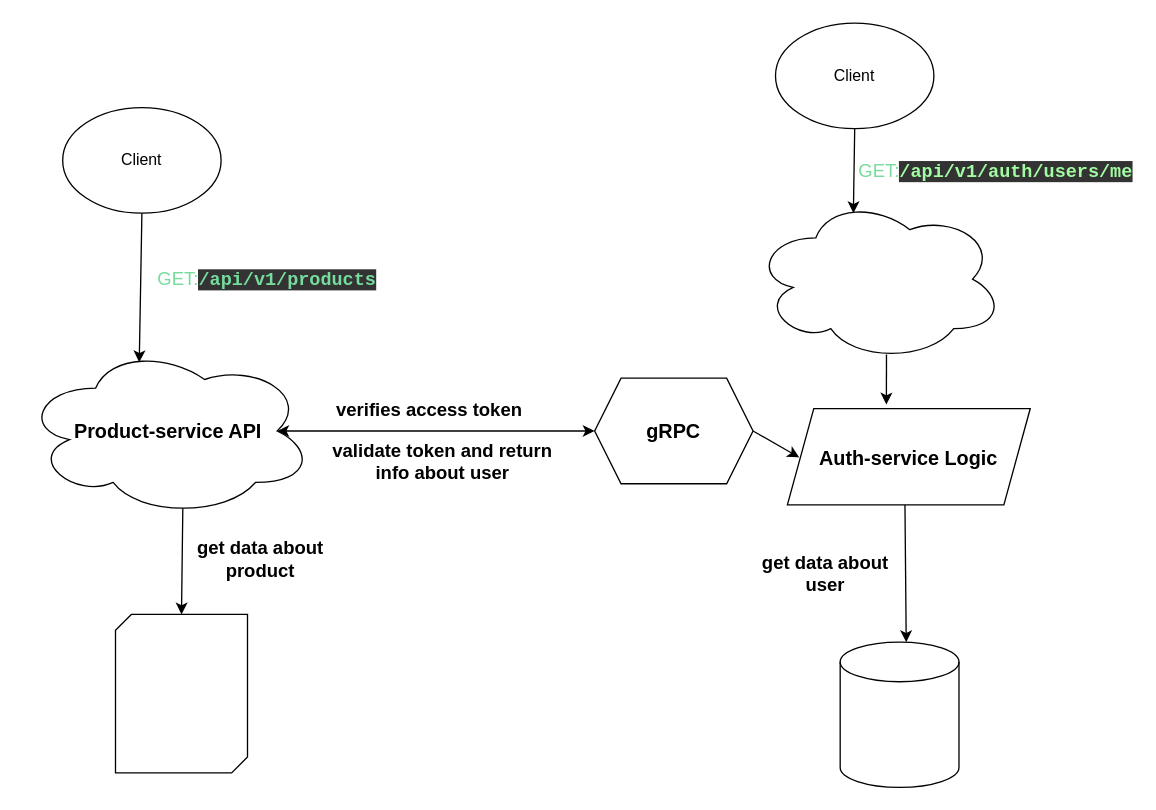
The diagram is 1156 pixels wide and 810 high, and some of its shapes have lost their labels. The shapes that lost their labels are listed below. From the top down, each one's centre as x and y in pixels, then its label:
(878,278): Auth-service API
(181,693): MongoDB
(899,714): Postgres
